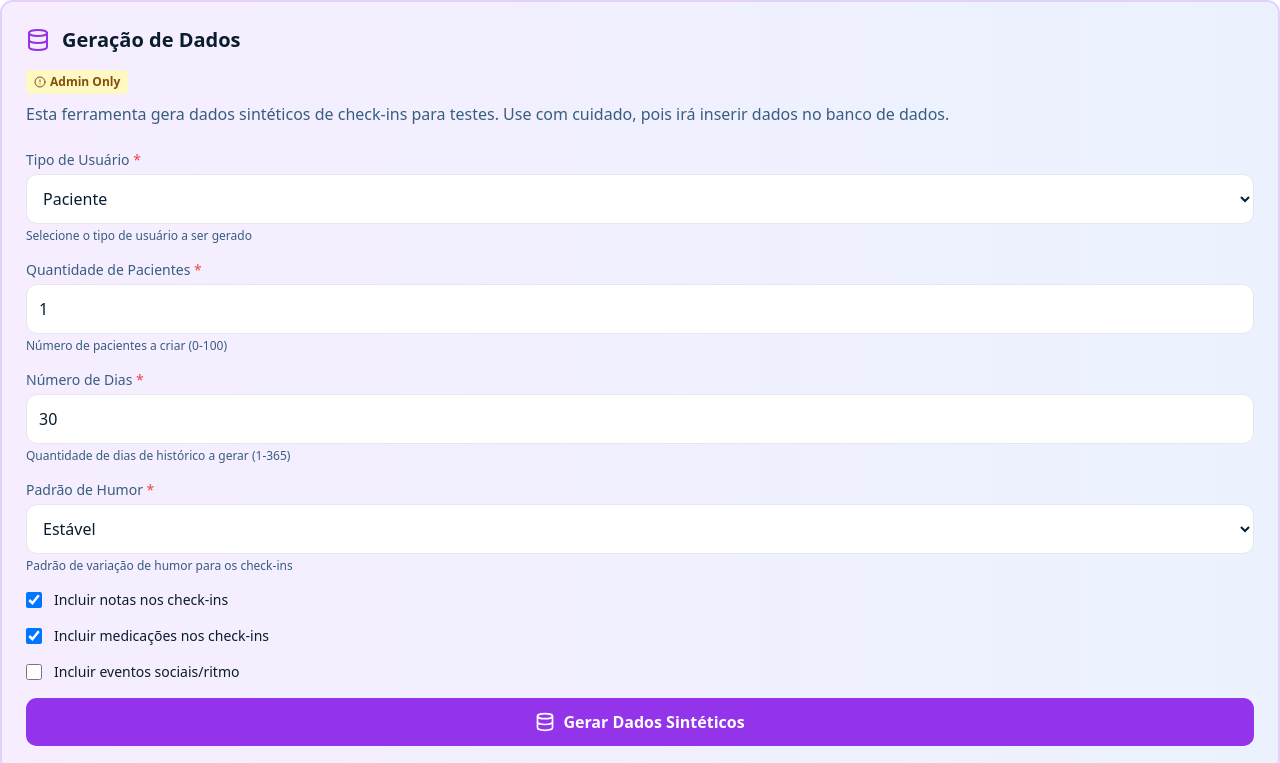
DataGenerator › should show error message on API failure
Check: the dropdown labelled "Tipo de Usuário *" is shown, box x1=26 y1=174 x2=1254 y2=224
Click the button "Gerar Dados Sintéticos": click(640, 722) x1=26 y1=698 x2=1254 y2=746
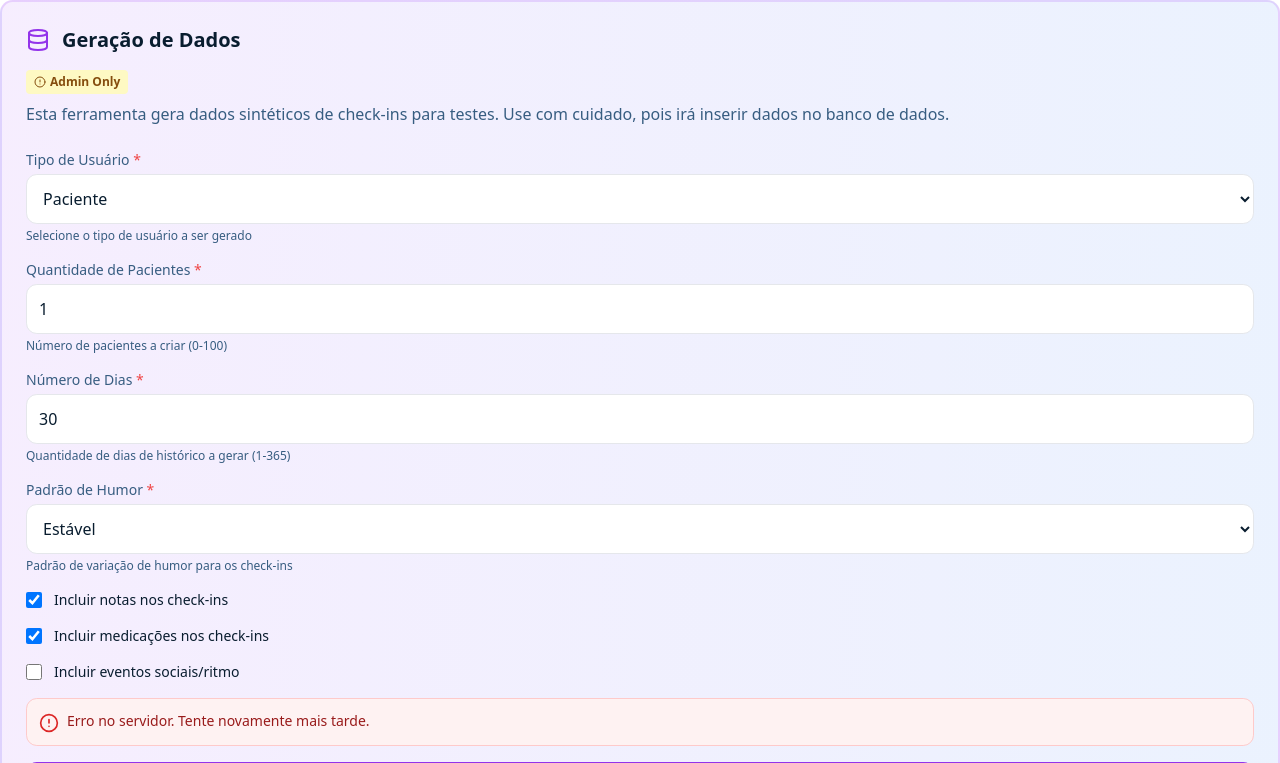
Check: the text "Erro no servidor. Tente novamente mais tarde." is shown, box x1=67 y1=711 x2=370 y2=731
